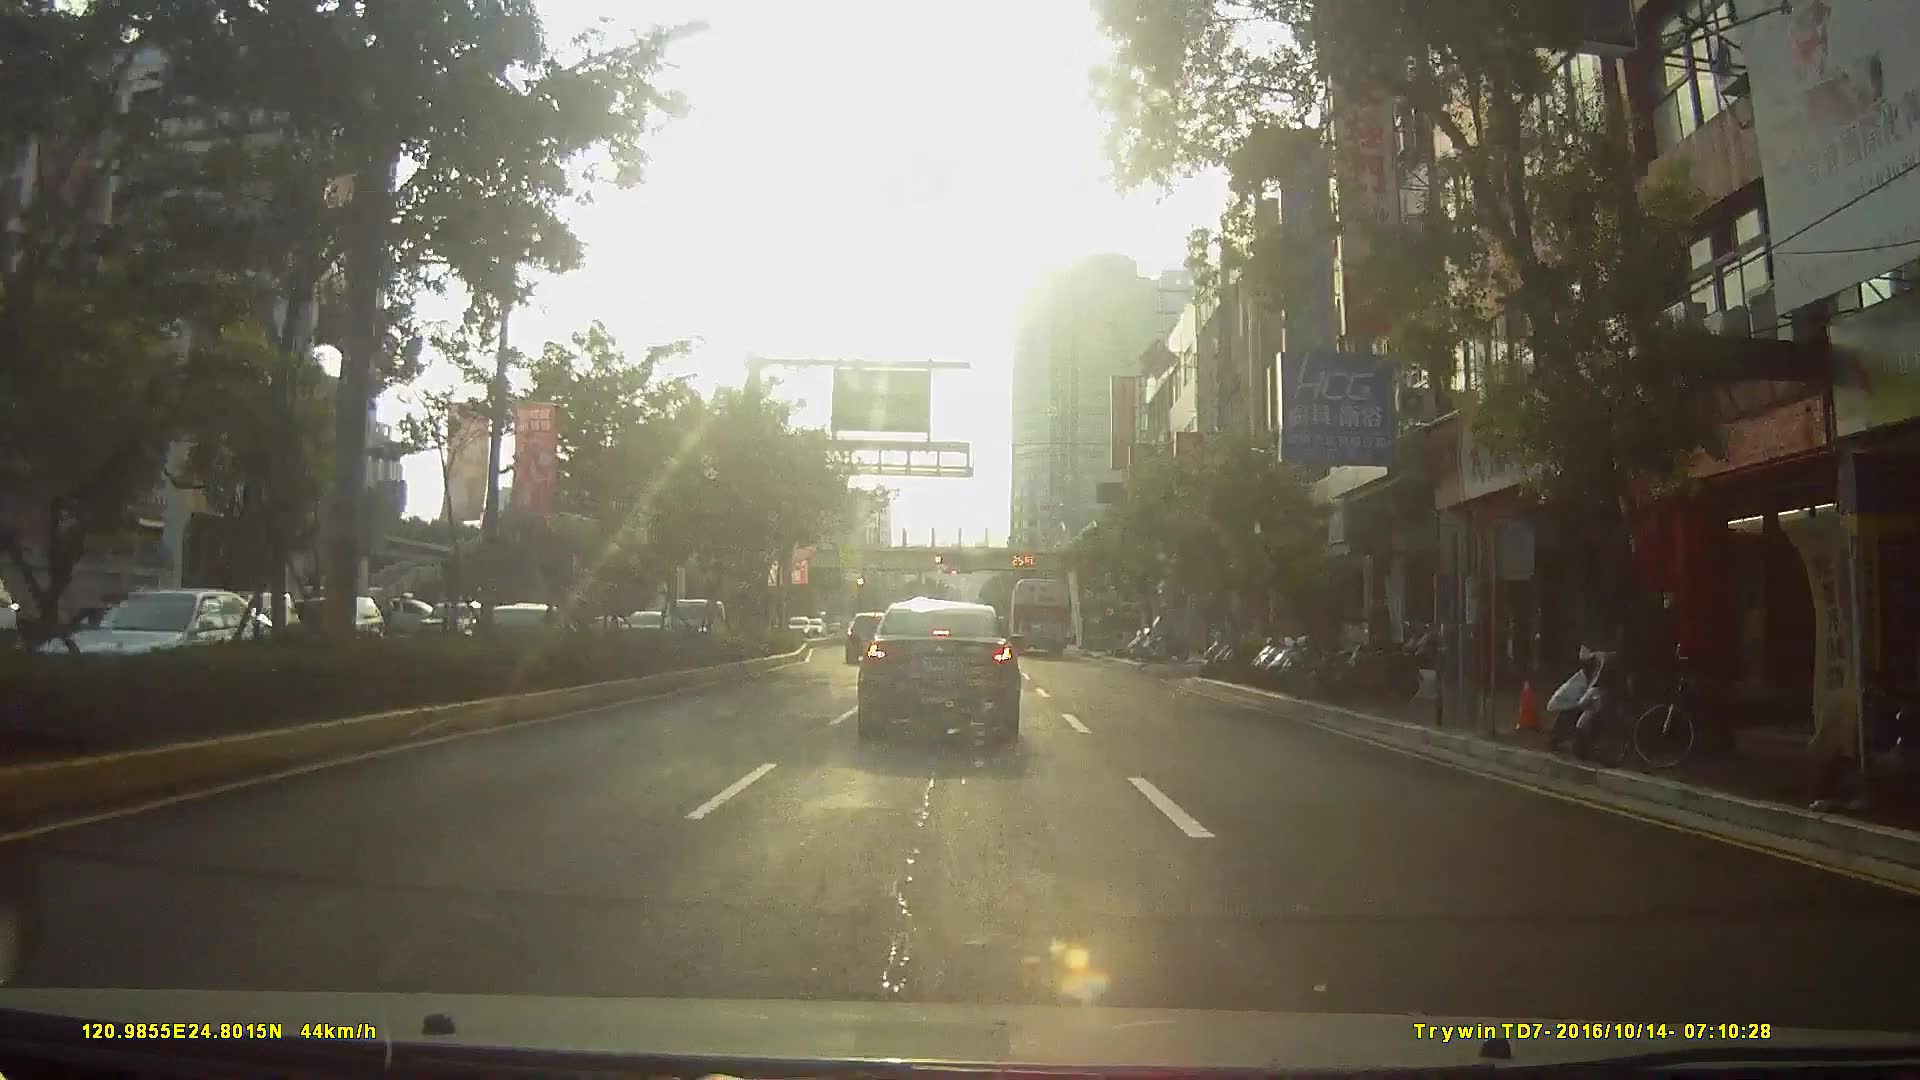vehicle: (32, 585, 272, 690), (856, 600, 1021, 744), (175, 589, 289, 659), (287, 593, 380, 655), (1006, 575, 1073, 655), (844, 611, 895, 663)
